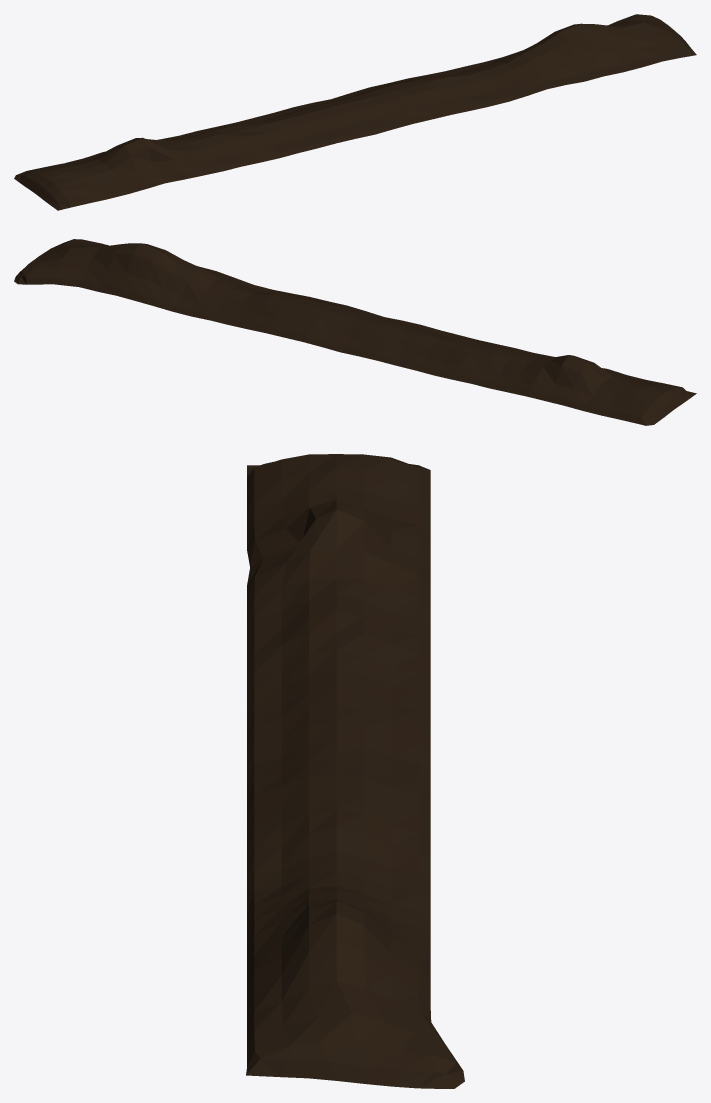
The model's file is Island_D01_Long02_Model.fbx.
3 renders of one model, top to bottom at view 1: azimuth 30°, elevation 25°; view 2: azimuth 150°, elevation 25°; view 3: azimuth 270°, elevation 25°, orthographic. The views are drawn at different scales.
Visible parts, largest first — view 1: Island_D_Long02; view 2: Island_D_Long02; view 3: Island_D_Long02.
Boxes of the visible parts, bbox=[...] form: Island_D_Long02: bbox=[14, 14, 696, 210]; Island_D_Long02: bbox=[14, 239, 696, 425]; Island_D_Long02: bbox=[246, 454, 464, 1088].
Bounding box in the file's own units: 276 × 16.71 × 41.33.
